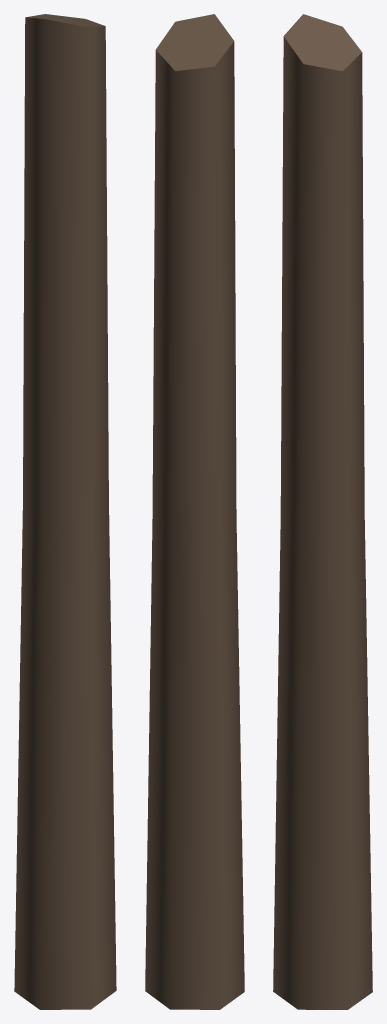
The model's file is fence-post-1.glb.
The picture shows the model from 3 angles, left to right: view 1: azimuth 30°, elevation 25°; view 2: azimuth 210°, elevation 25°; view 3: azimuth 270°, elevation 25°; orthographic projection. The views are drawn at different scales.
Parts seen in each view (by area): view 1: fence-post-1; view 2: fence-post-1; view 3: fence-post-1.
Boxes of the visible parts, x1=… form: fence-post-1: x1=14, y1=14, x2=116, y2=1009; fence-post-1: x1=145, y1=14, x2=244, y2=1009; fence-post-1: x1=273, y1=14, x2=372, y2=1009.
Size of the model in its own units: 0.1218 by 1.5 by 0.1406.
